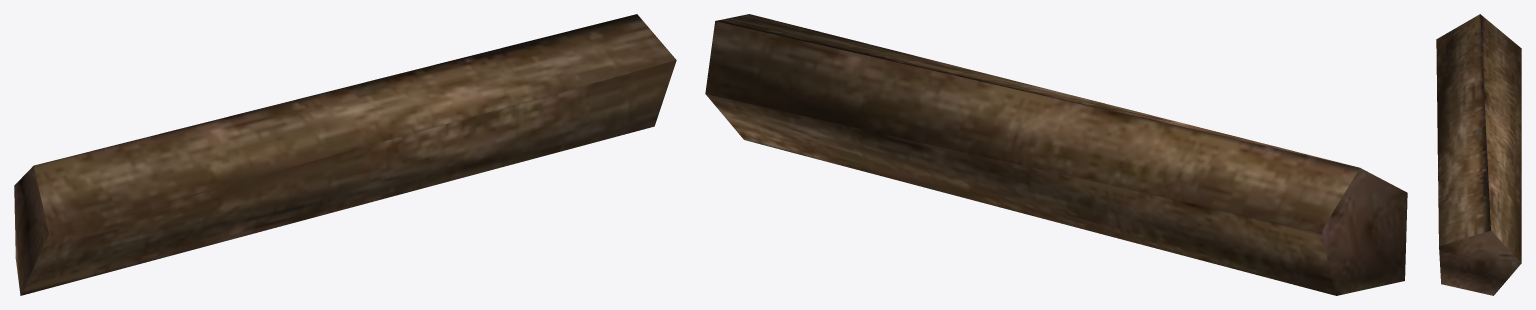
Rendered from NC_LOB_LOG2.glb.
The picture shows the model from 3 angles, left to right: view 1: azimuth 30°, elevation 25°; view 2: azimuth 150°, elevation 25°; view 3: azimuth 270°, elevation 25°; orthographic projection. The views are drawn at different scales.
Parts seen in each view (by area): view 1: Mesh; view 2: Mesh; view 3: Mesh.
Boxes of the visible parts, box(x1,y1,x2,y2) form: Mesh: box(14, 14, 676, 295); Mesh: box(705, 14, 1407, 295); Mesh: box(1436, 14, 1521, 295).
Size of the model in its own units: 1.77 by 0.296 by 0.2823.
Materials: 2 (2 with a texture image).
